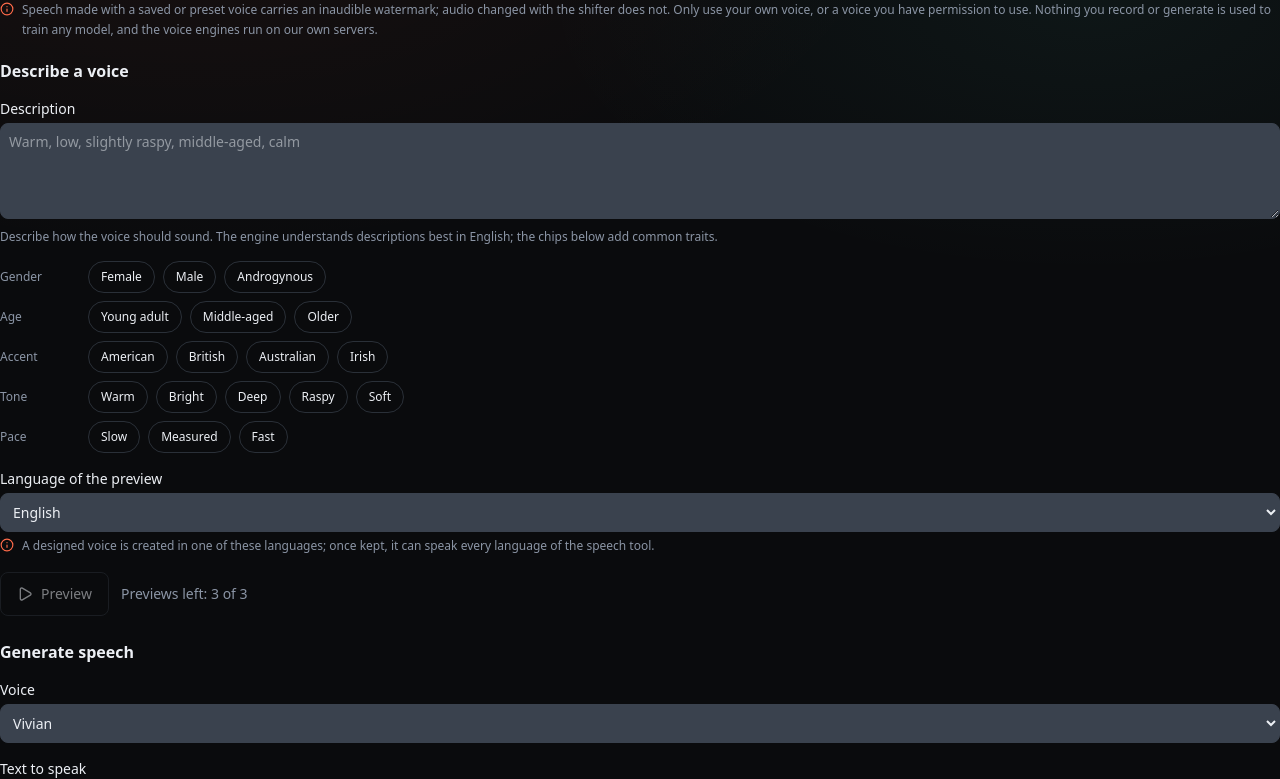
Scenario: designer preview counter (acceptance 4) › counts 3 to 0, then disables Preview with a message; a changed description resets it
Type "warm, low" into the text box labelled "Description" at (640, 171), box [0, 123, 1279, 219]
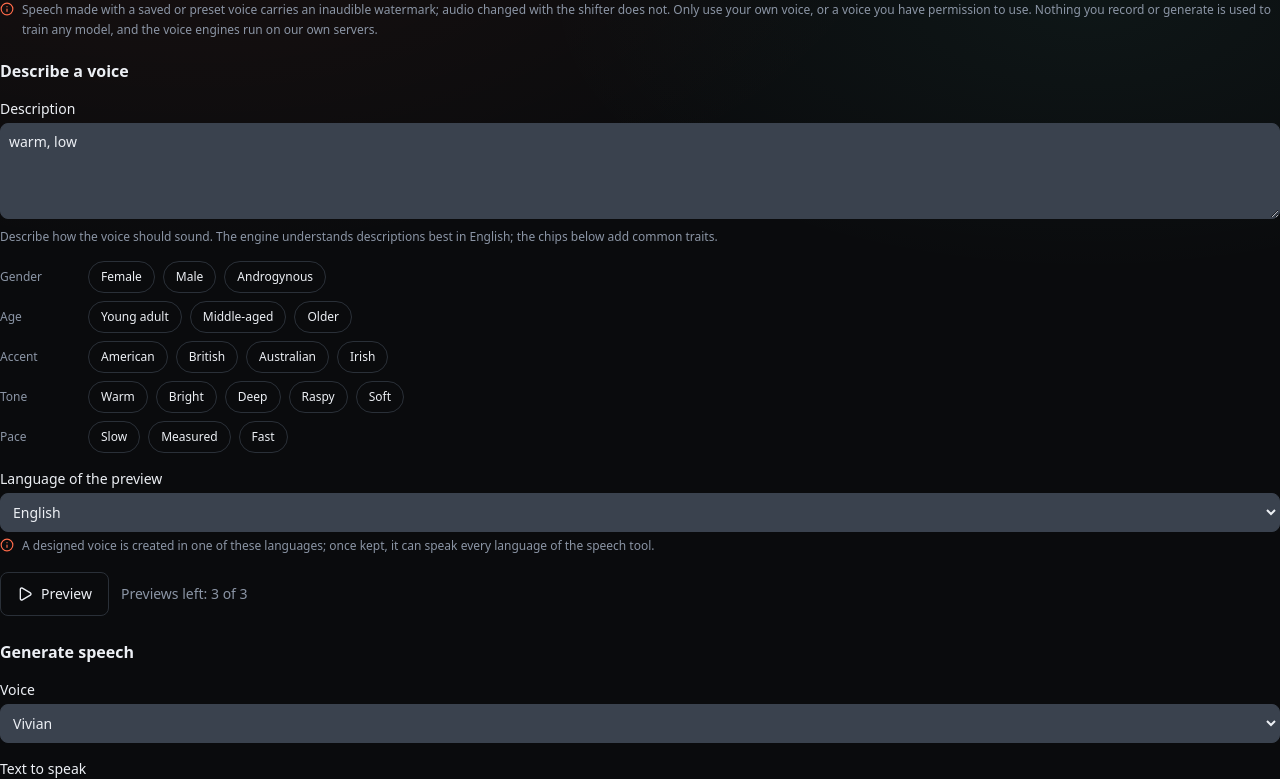
expect the text with test id "previews-left" reads "Previews left: 3 of 3": met, box [121, 584, 248, 602]
Click the button "Preview" at (54, 594), box [0, 572, 109, 616]
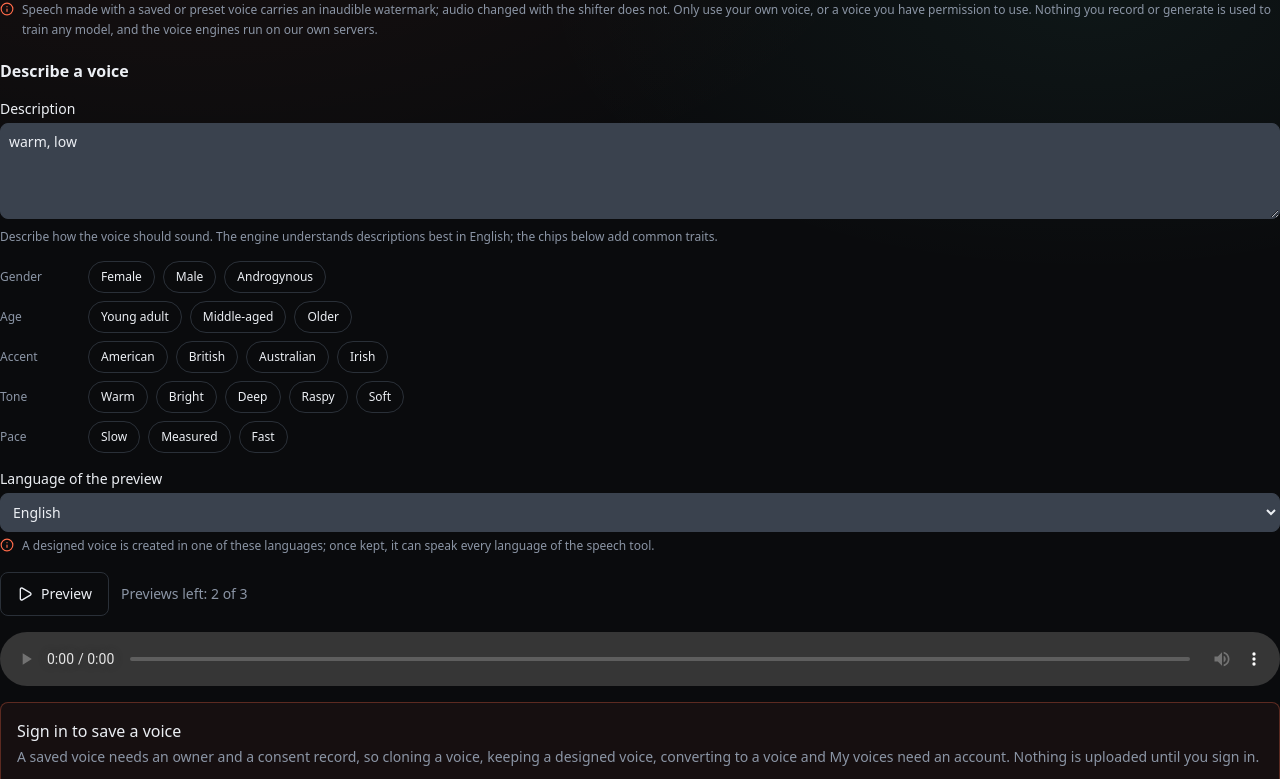
Click the button "Preview" at (54, 594), box [0, 572, 109, 616]
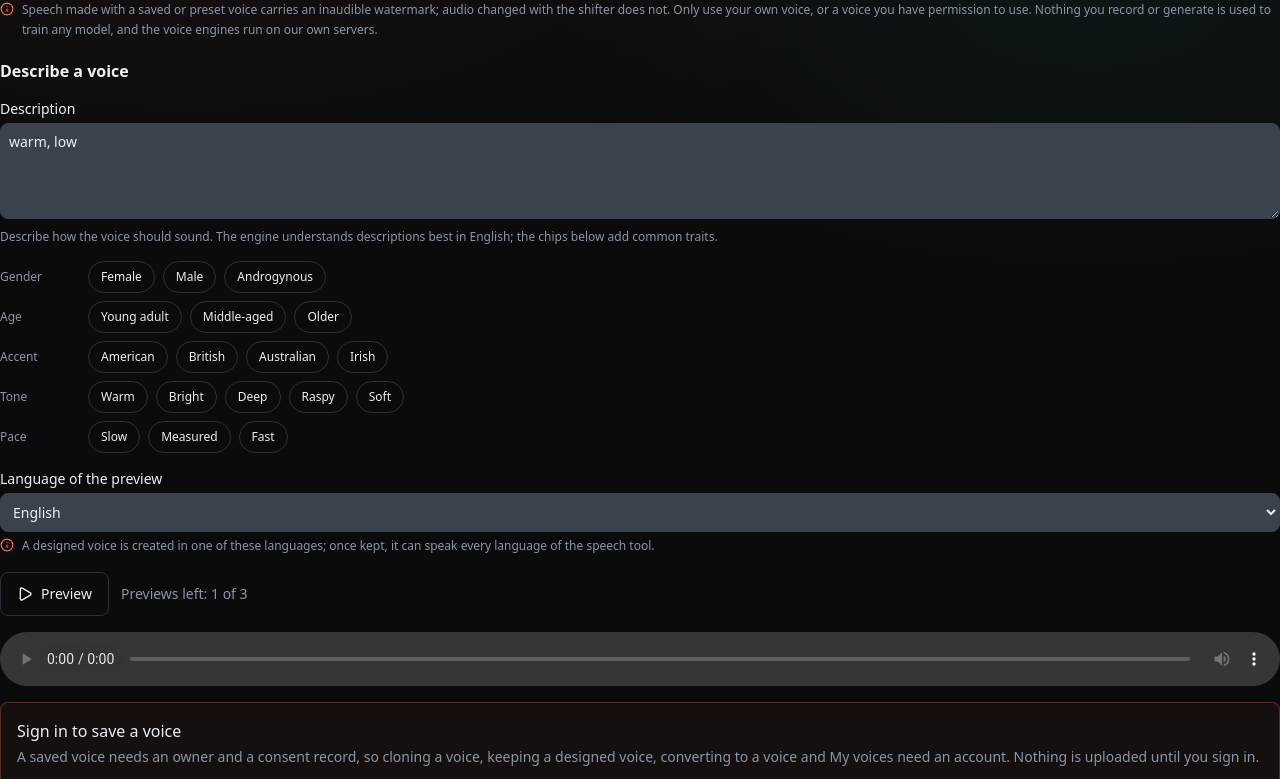
Click the button "Preview" at (54, 594), box [0, 572, 109, 616]
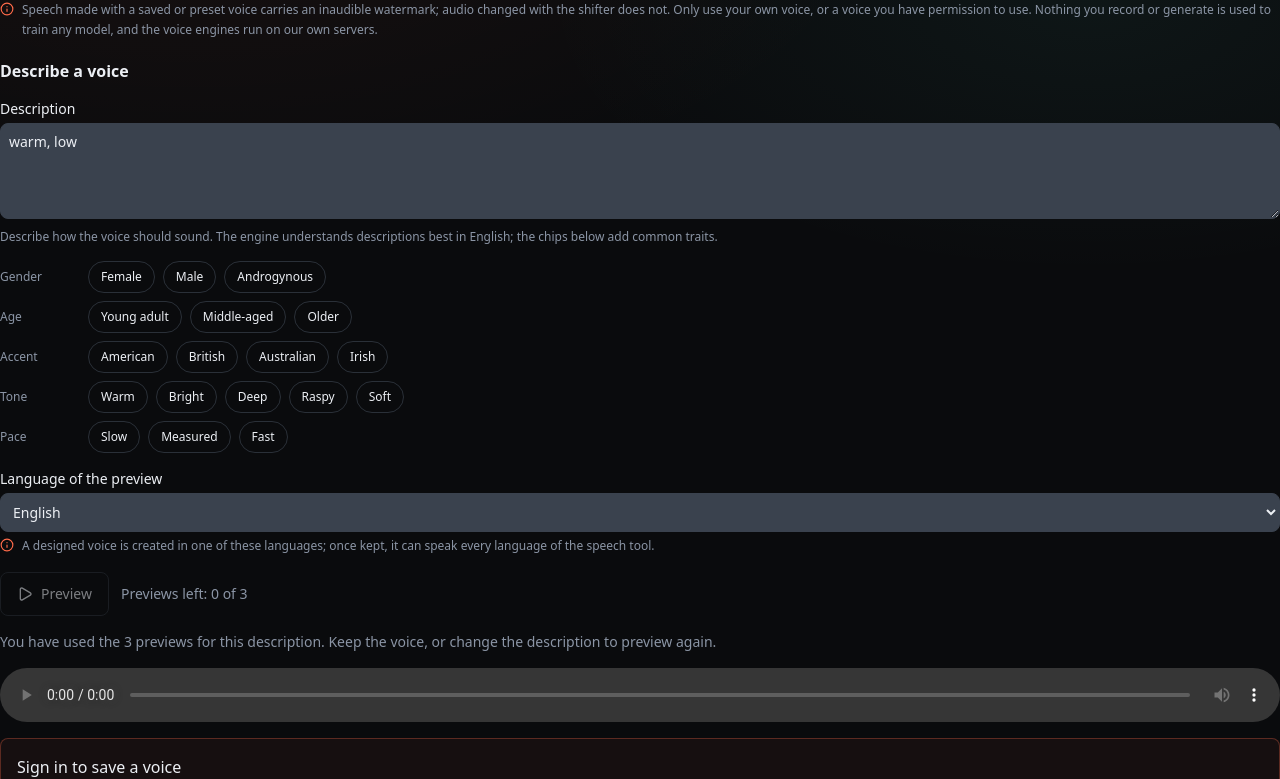
expect the text with test id "previews-left" reads "Previews left: 0 of 3": met, box [121, 584, 248, 602]
expect the button "Preview" is disabled: met, box [0, 572, 109, 616]
expect the text with test id "previews-used" shows "used the 3 previews": met, box [0, 632, 716, 650]
Replace the text in the text box labelled "Description" with "warm, low, slow pace" at (640, 171), box [0, 123, 1279, 219]
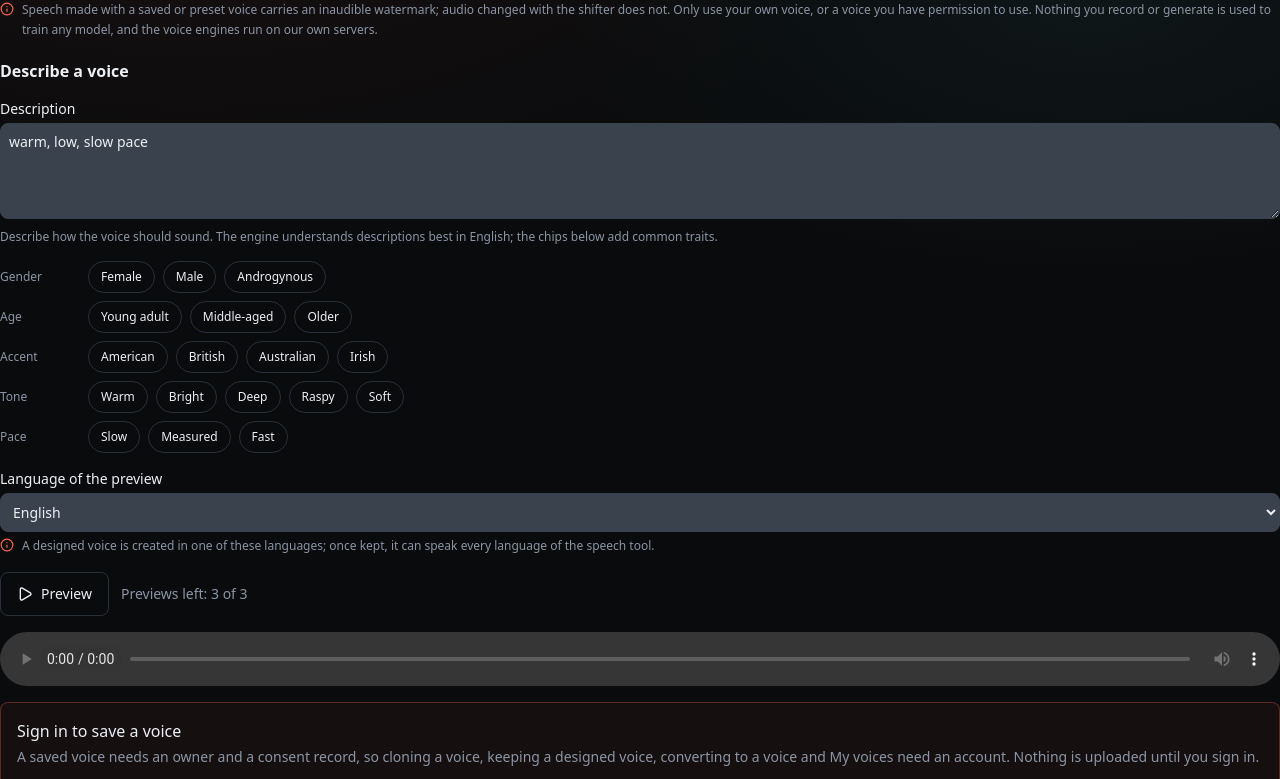
expect the text with test id "previews-left" reads "Previews left: 3 of 3": met, box [121, 584, 248, 602]
expect the button "Preview" is enabled: met, box [0, 572, 109, 616]
